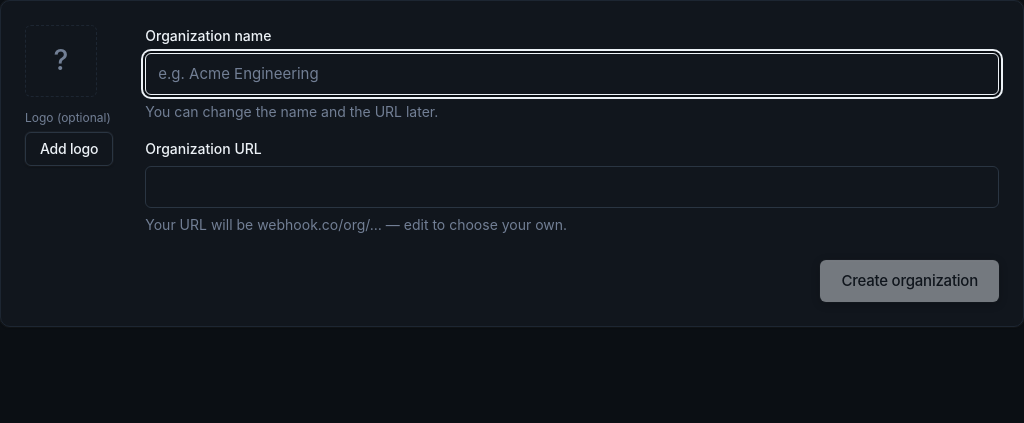
Scenario: CreateTeamForm › submits just the trimmed name for an untouched URL (the server derives the slug), and renders a server error inline
The image size is (1024, 423).
Type "  Acme  " into the field labelled "Organization name" at (572,74), box top-left (145, 53), bottom-right (999, 95)
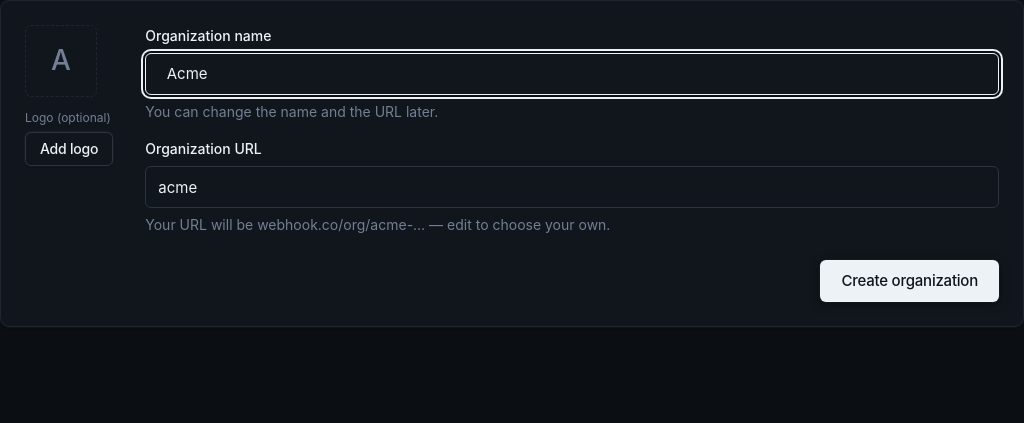
Click the button "Create organization" at (910,281), box top-left (820, 260), bottom-right (999, 302)
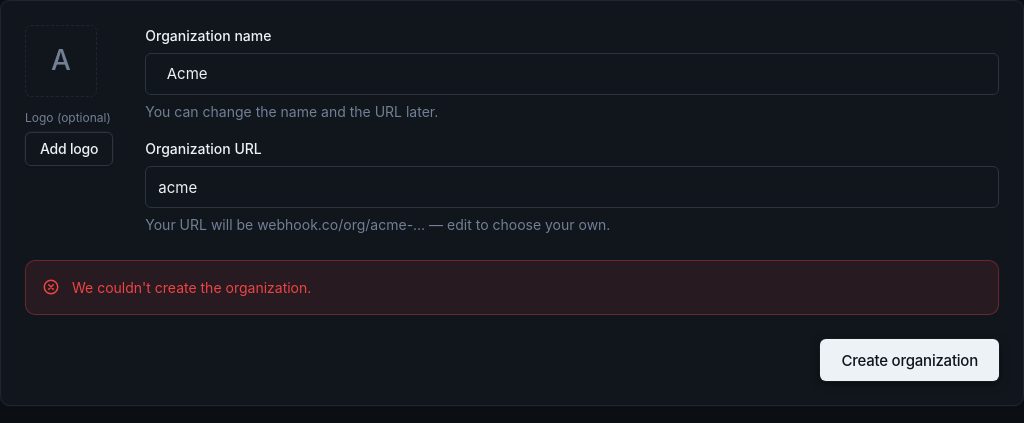
Now the text "We couldn't create the organization." is shown, box top-left (72, 279), bottom-right (311, 296)
